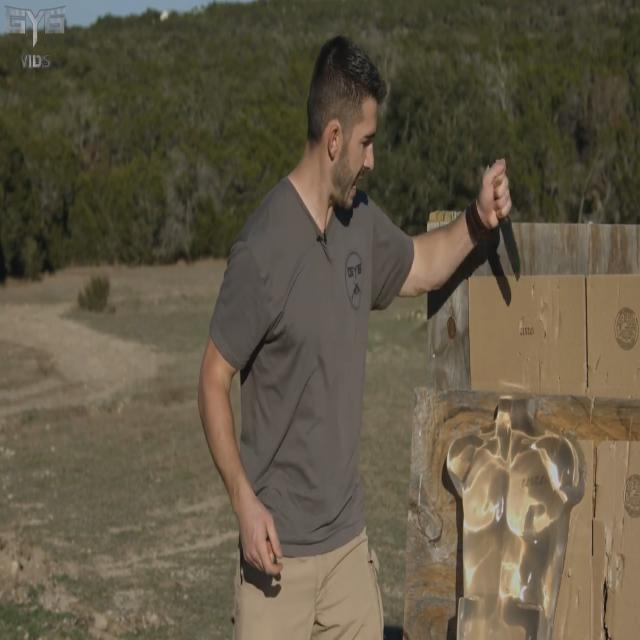knife: (500, 210, 526, 284)
